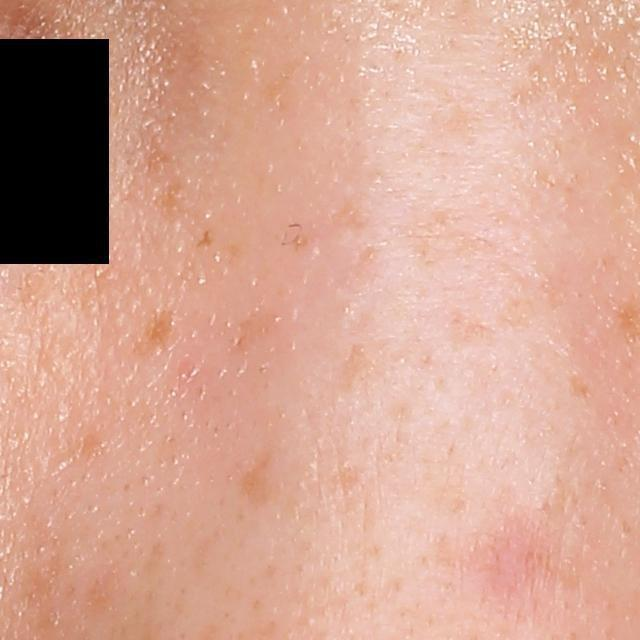melasma: (398, 193, 506, 267), (493, 272, 575, 334), (141, 143, 190, 227), (225, 297, 284, 357), (78, 567, 131, 622), (330, 338, 376, 400), (234, 451, 276, 513), (131, 303, 181, 351), (443, 301, 493, 347), (328, 197, 381, 238), (567, 372, 595, 402)
